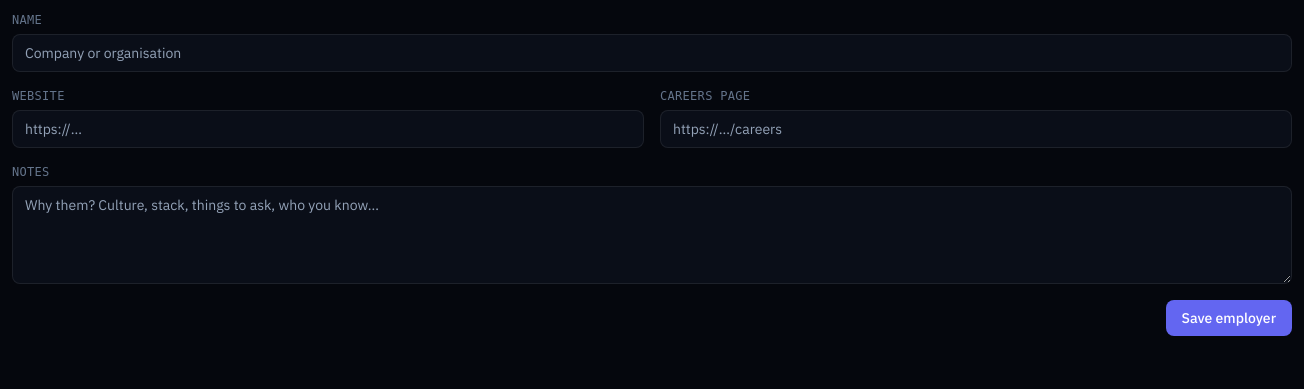
Test case: EmployerForm › shows a generic error for other failures
The image size is (1304, 389).
In the field labelled "Name": [652, 53] box [12,34,1292,72], type "Acme"
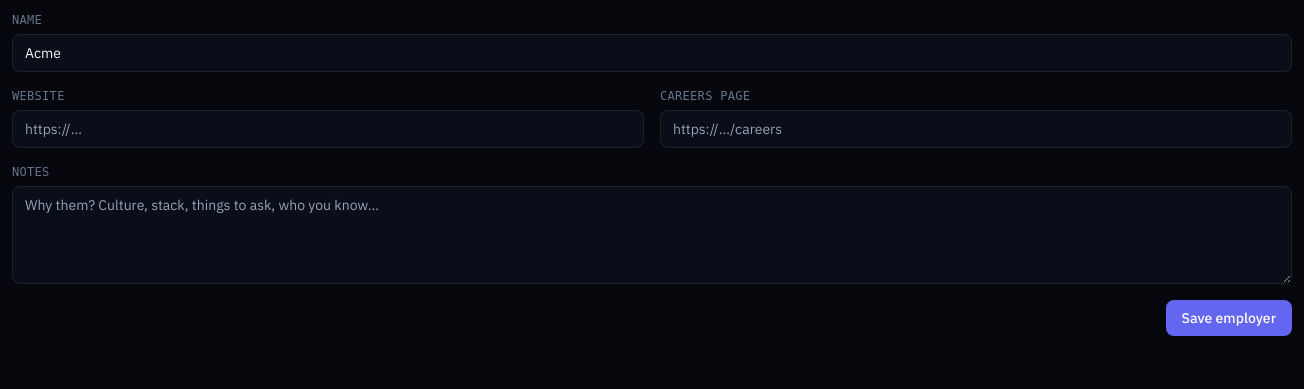
Click the button "Save employer": [1229, 318] box [1166,300,1292,336]
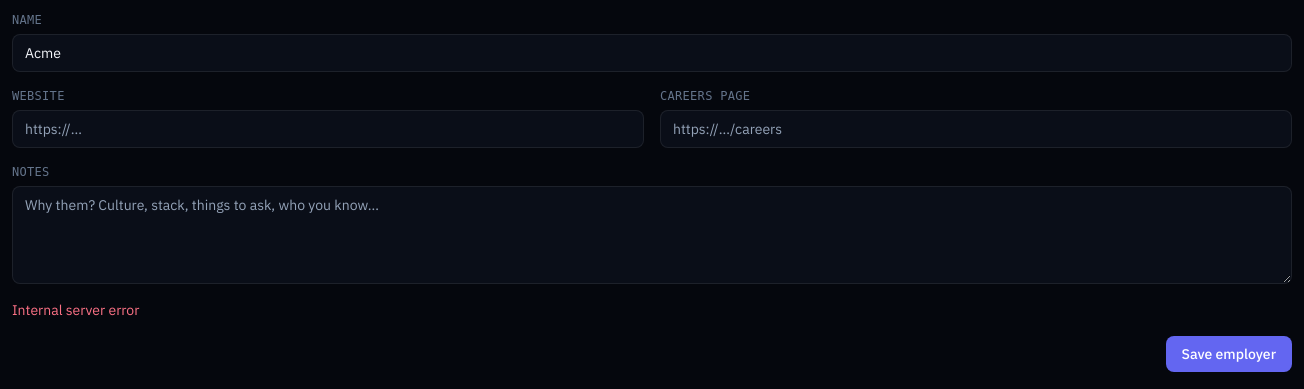
Check: the text "Internal server error" is shown, box [12,301,139,319]
